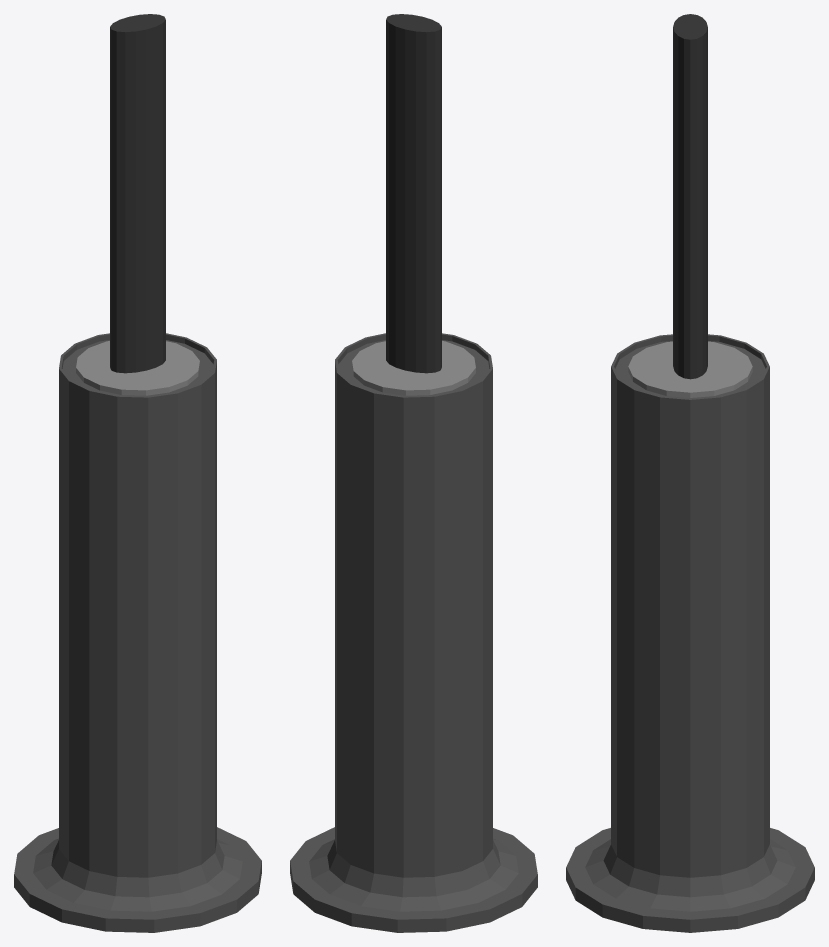
File: Prop_ToiletBrush_02.fbx
3 views of the same model, side by side, from view 1: azimuth 30°, elevation 25°; view 2: azimuth 150°, elevation 25°; view 3: azimuth 270°, elevation 25° (orthographic).
Visible parts, largest first — view 1: Prop_ToiletBrush_02; view 2: Prop_ToiletBrush_02; view 3: Prop_ToiletBrush_02.
Part boxes in pixels (box(x1,y1,x2,y2)): Prop_ToiletBrush_02: box(14, 14, 261, 932); Prop_ToiletBrush_02: box(290, 14, 537, 932); Prop_ToiletBrush_02: box(566, 14, 814, 932).
Bounding box in the file's own units: 17.01 × 64.39 × 17.01.
